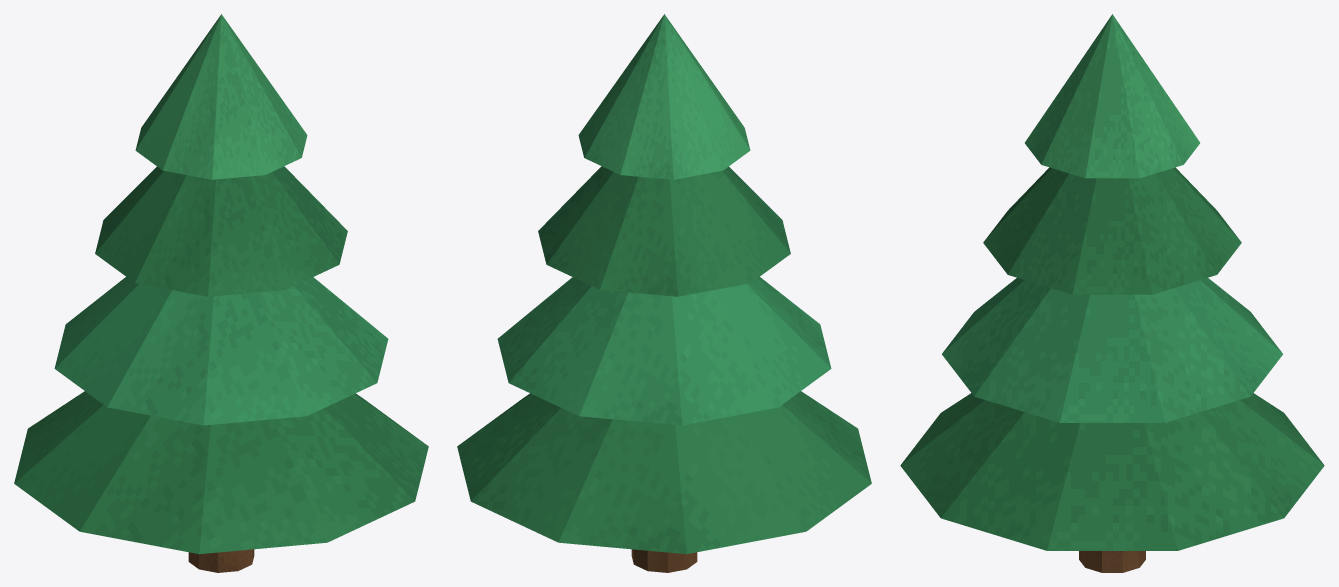
The model's file is prop_pine_tree.glb.
3 views of the same model, side by side, from view 1: azimuth 30°, elevation 25°; view 2: azimuth 150°, elevation 25°; view 3: azimuth 270°, elevation 25° (orthographic).
Visible parts, largest first — view 1: prop_pine_tree; view 2: prop_pine_tree; view 3: prop_pine_tree.
Boxes of the visible parts, x1,y1,x2,y2 form: prop_pine_tree: (14, 14, 428, 572); prop_pine_tree: (457, 14, 871, 572); prop_pine_tree: (900, 14, 1324, 572).
Bounding box in the file's own units: 1.56 × 2.33 × 1.64.
1 material, 1 textured.
